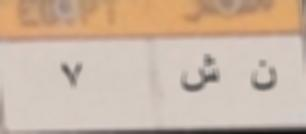7: (54, 57, 90, 93)
noon: (245, 60, 280, 95)
sheen: (179, 52, 225, 94)
